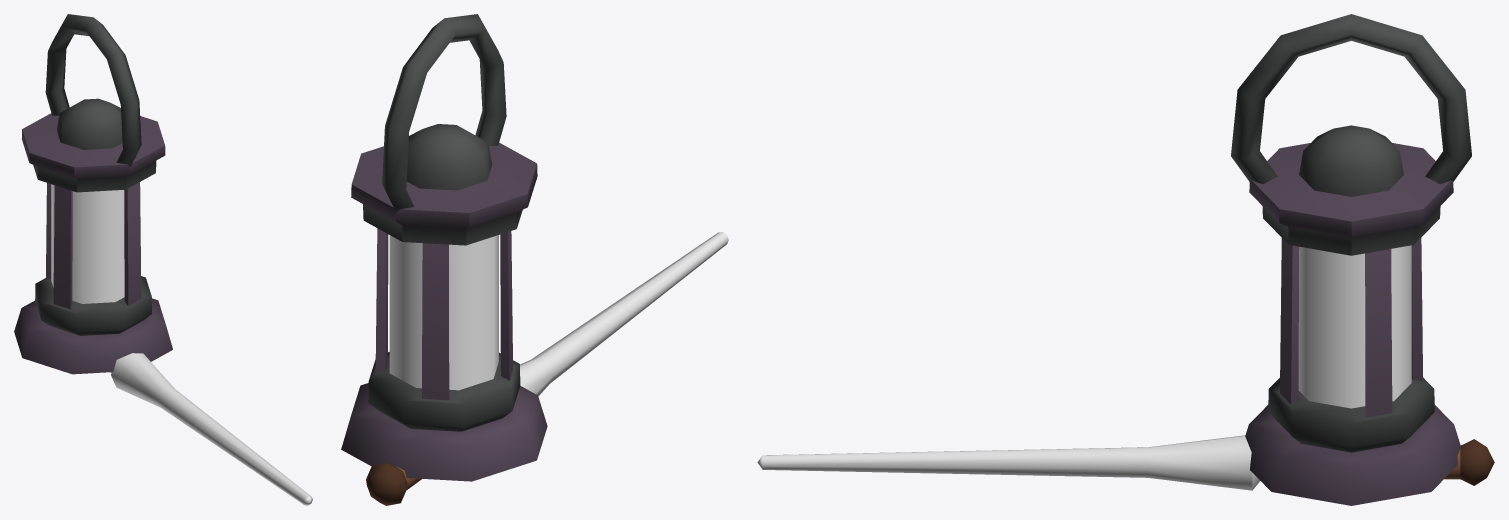
The model's file is wizard-item.fbx.
3 renders of one model, left to right at view 1: azimuth 30°, elevation 25°; view 2: azimuth 150°, elevation 25°; view 3: azimuth 270°, elevation 25°, orthographic. The views are drawn at different scales.
Visible parts, largest first — view 1: dark_soul_wizard_hand_lamp, dark_soul_wizard_wand; view 2: dark_soul_wizard_hand_lamp, dark_soul_wizard_wand; view 3: dark_soul_wizard_hand_lamp, dark_soul_wizard_wand.
Boxes of the visible parts, bbox=[...] form: dark_soul_wizard_hand_lamp: bbox=[14, 14, 172, 374]; dark_soul_wizard_wand: bbox=[111, 353, 312, 505]; dark_soul_wizard_hand_lamp: bbox=[341, 14, 547, 481]; dark_soul_wizard_wand: bbox=[366, 232, 728, 505]; dark_soul_wizard_hand_lamp: bbox=[1231, 14, 1471, 505]; dark_soul_wizard_wand: bbox=[757, 435, 1494, 490].
Size of the model in its own units: 76.52 by 177 by 249.
